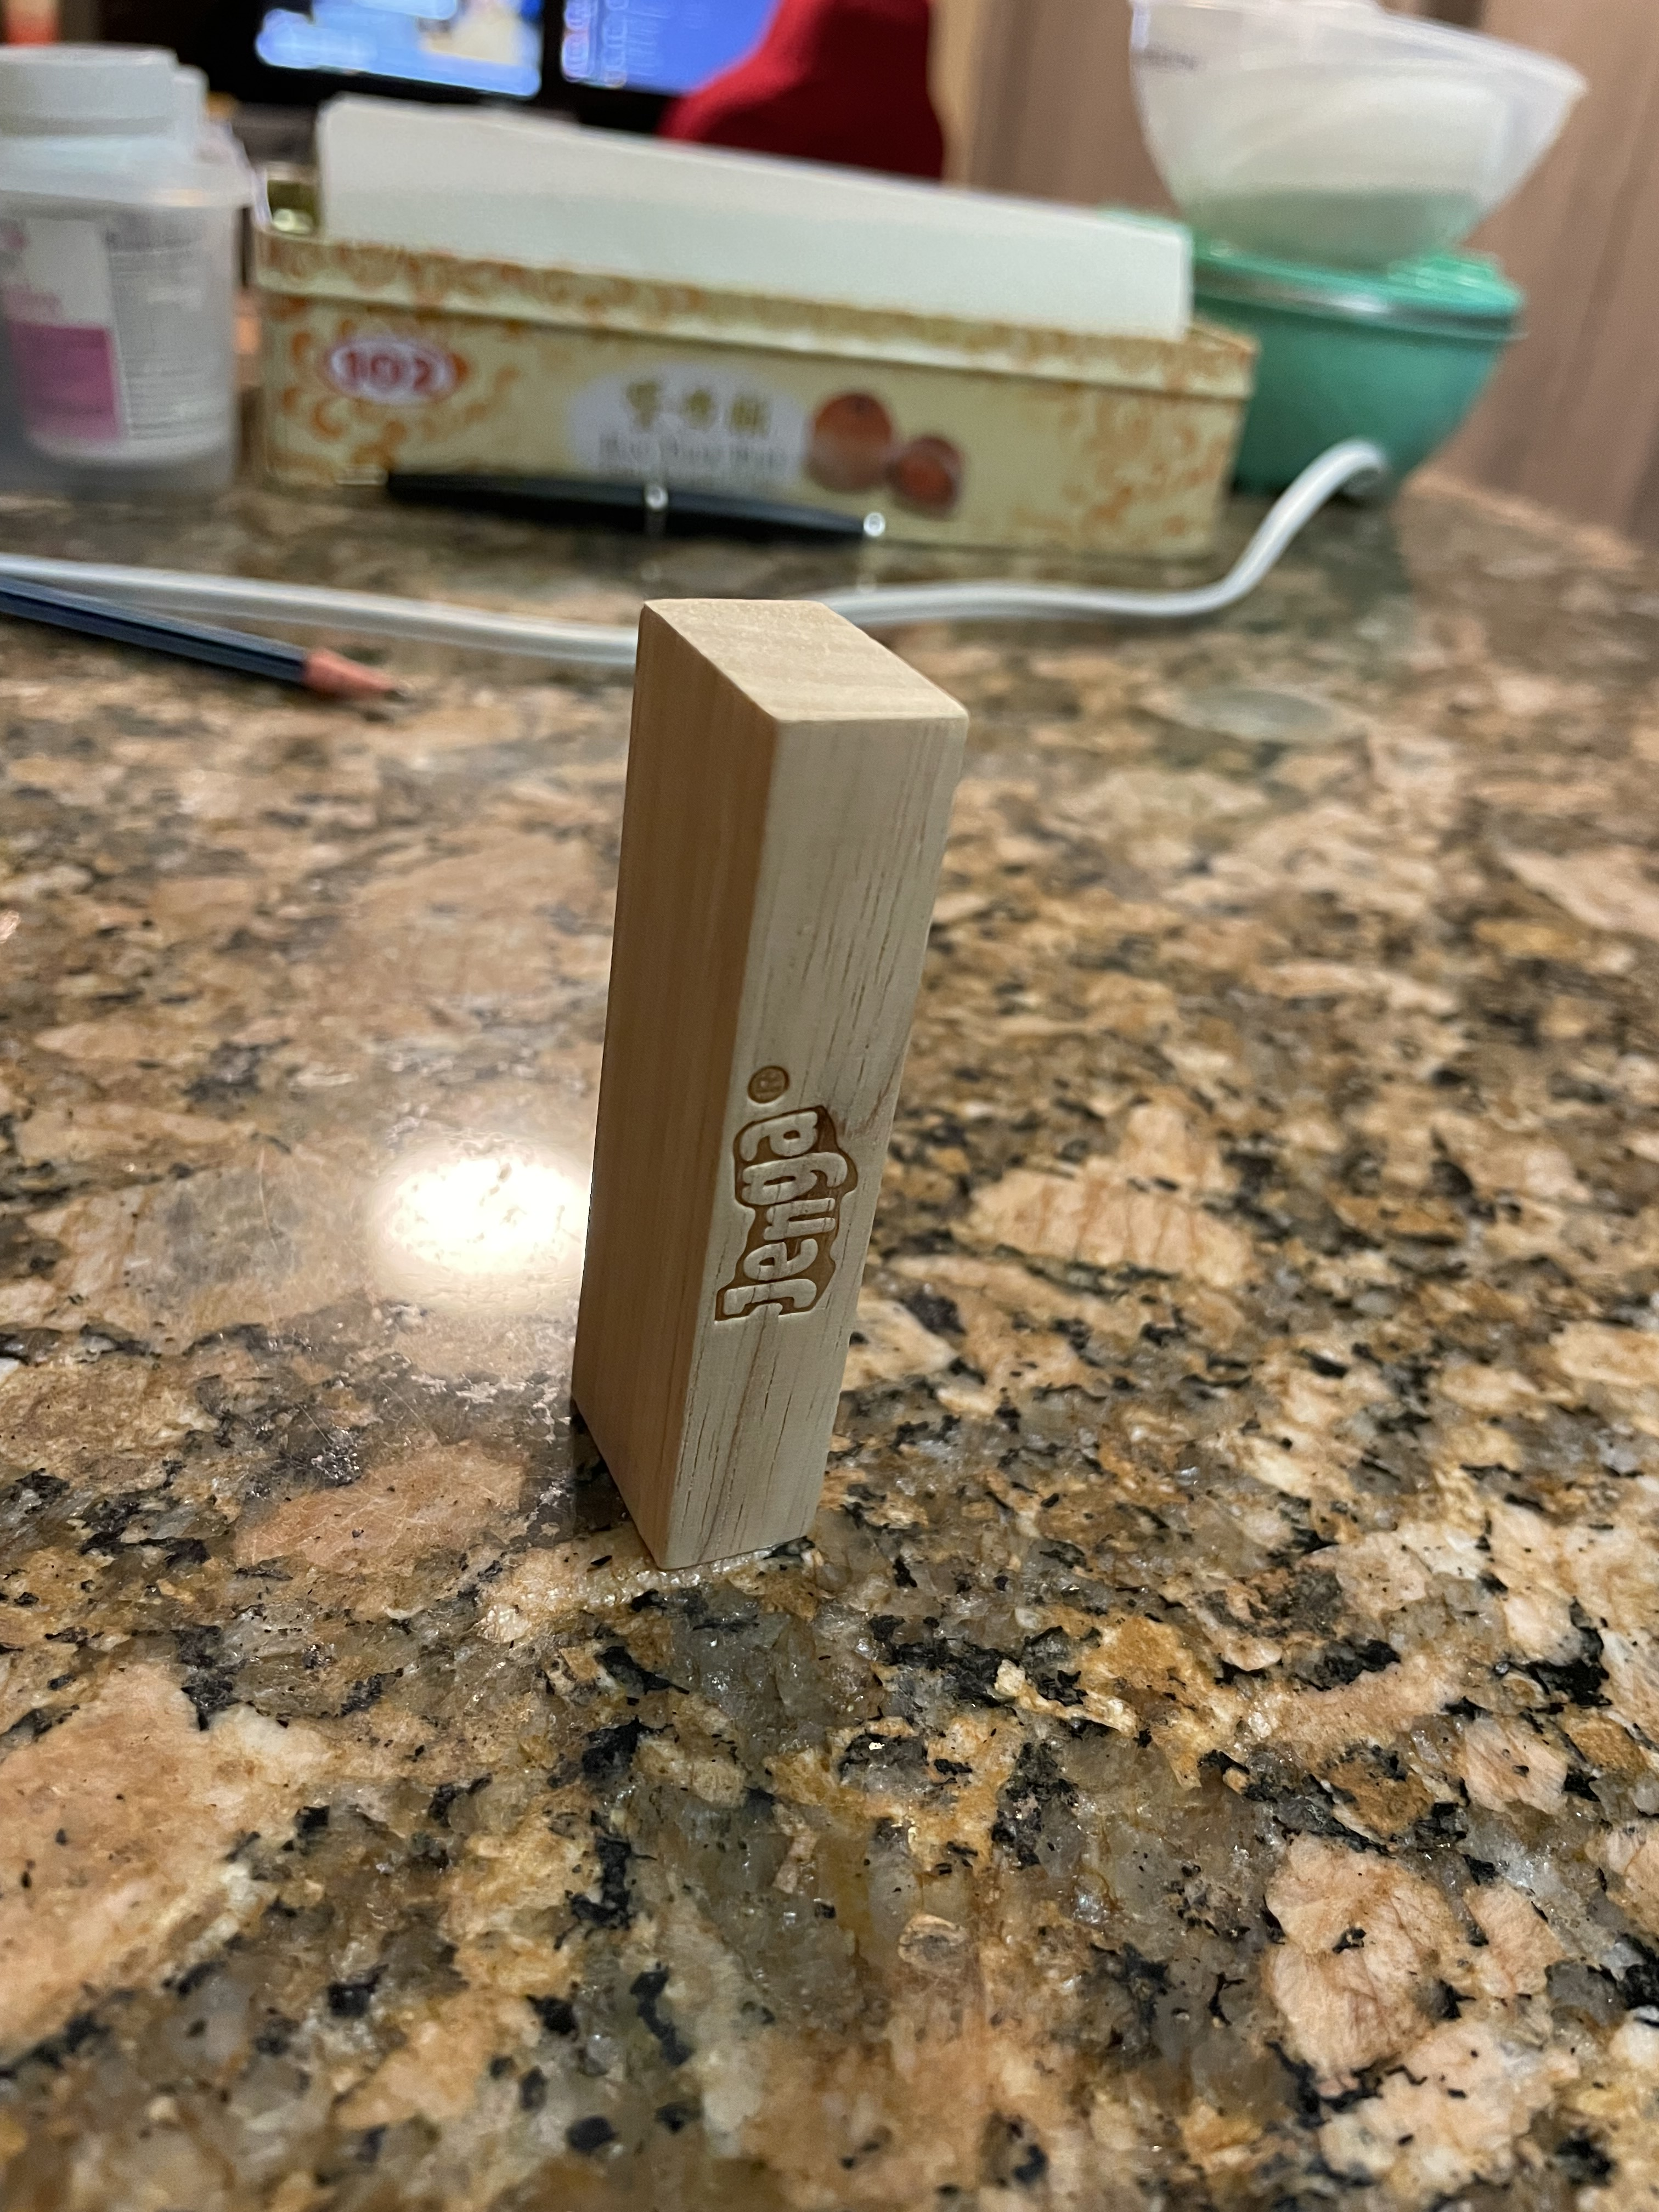jenga: (579, 566, 981, 1618)
